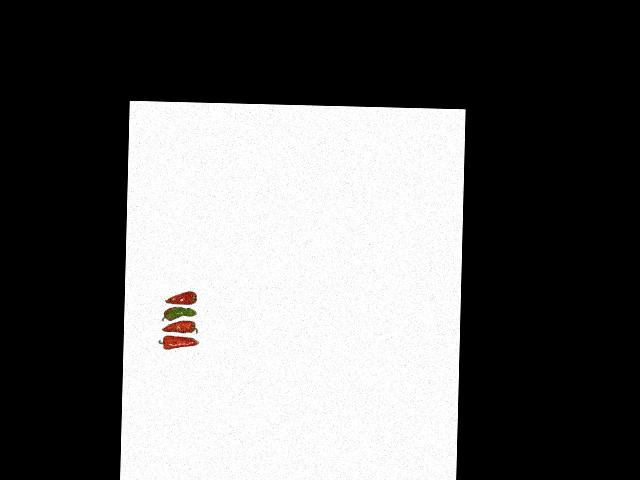bell_pepper: (162, 287, 198, 306)
